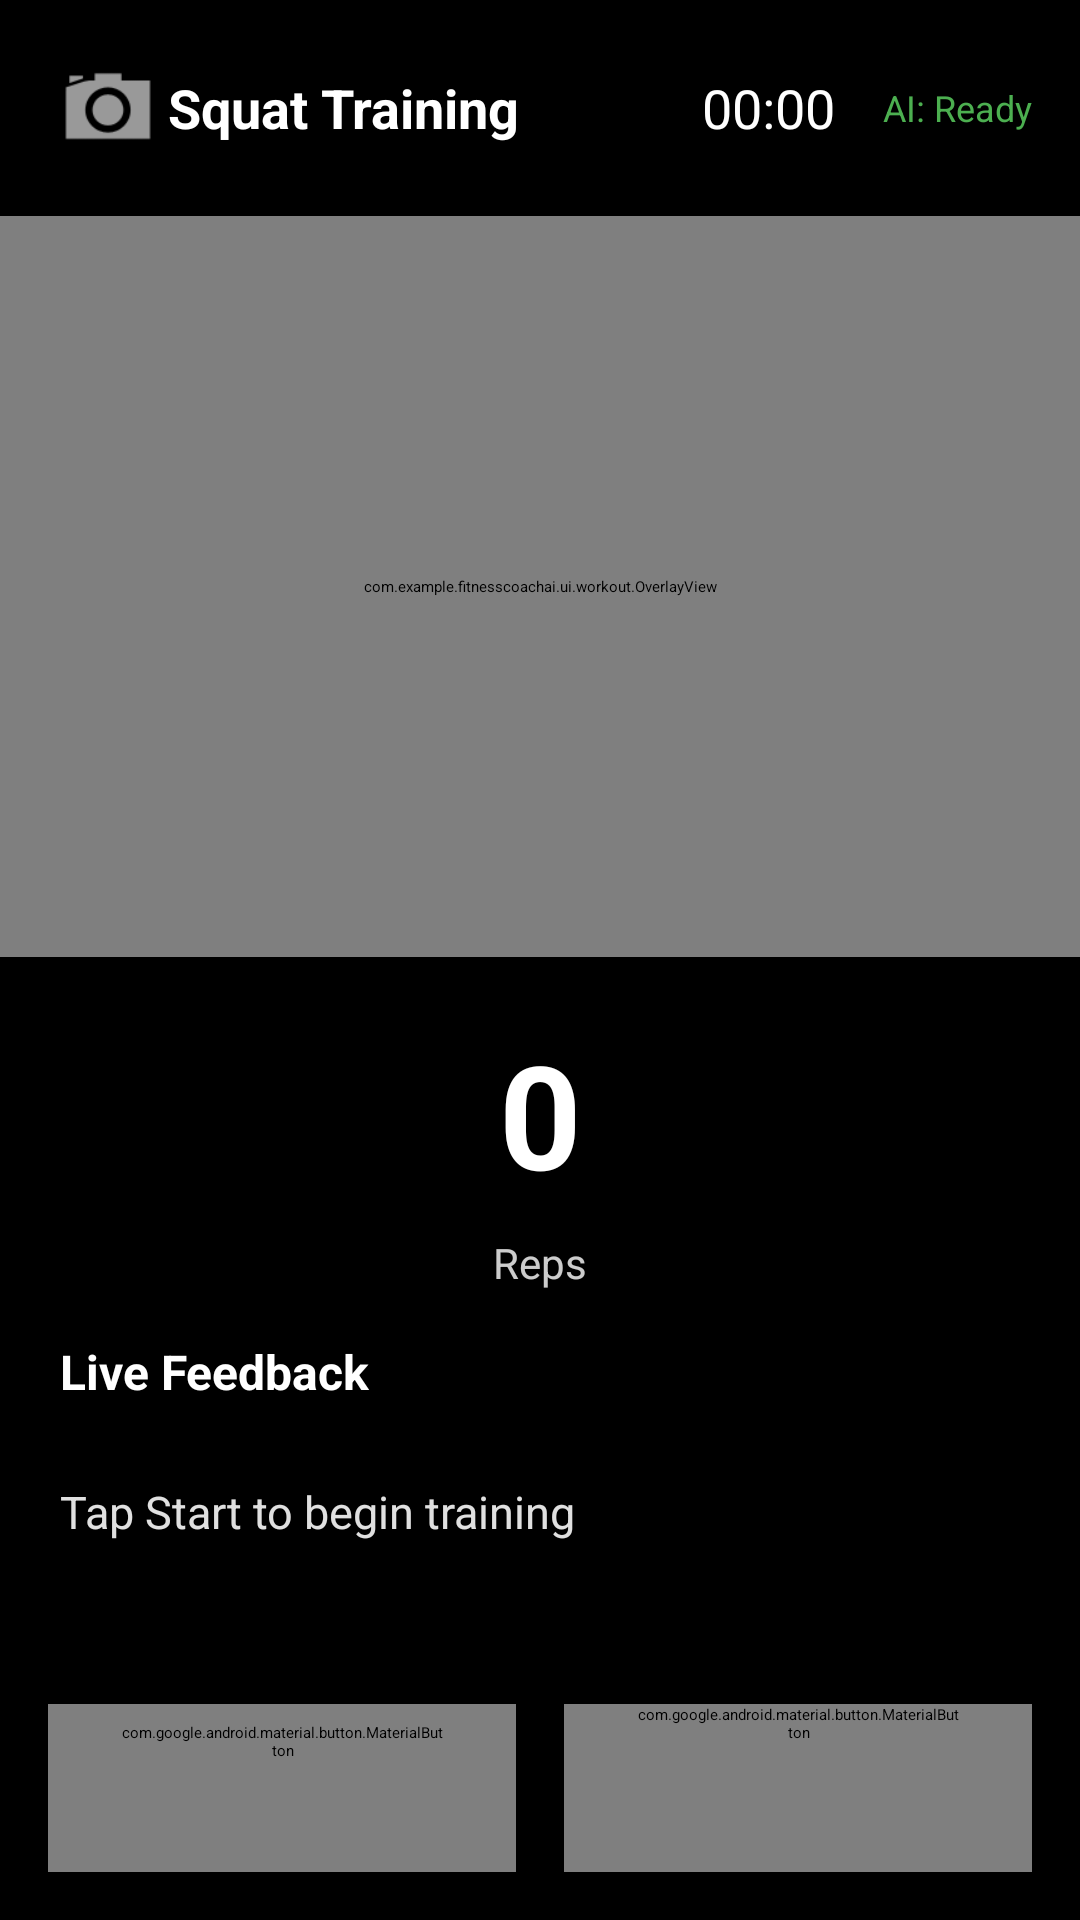

Icons on this 1080 x 1920 Android screen, each with its box as box(x1, y1, x2, y2):
Switch camera: box(65, 73, 151, 140)
